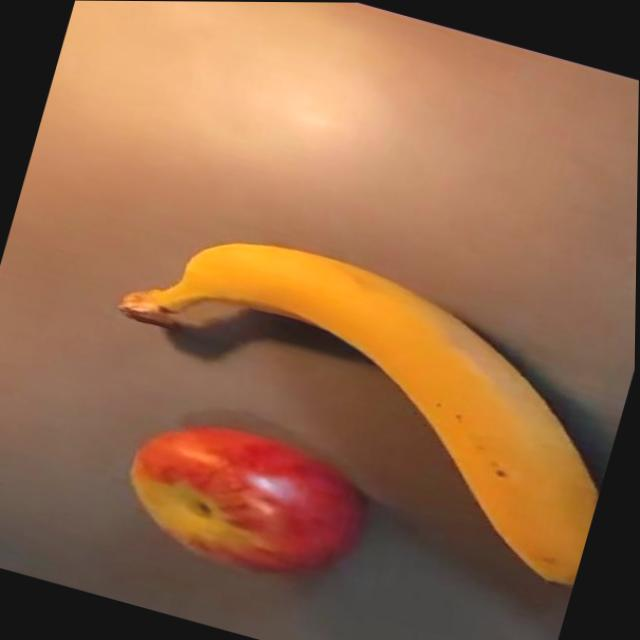Apple: (112, 401, 384, 598)
Banana: (76, 202, 638, 589)
